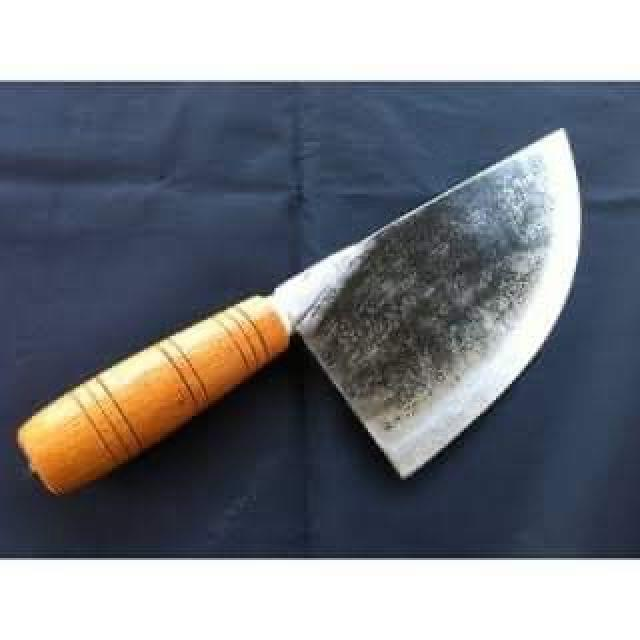Knife: (4, 120, 590, 502)
